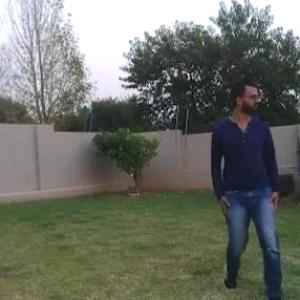follow: (206, 51, 288, 299)
